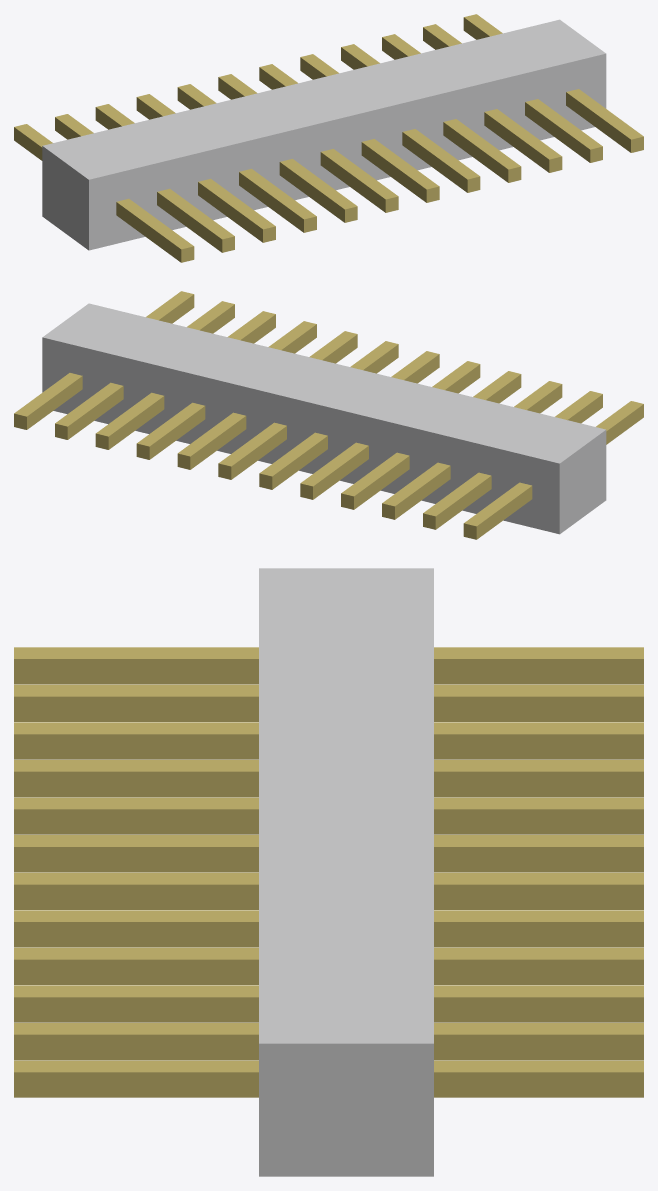
Rendered from pin_header_127_12pin.glb.
3 renders of one model, top to bottom at view 1: azimuth 30°, elevation 25°; view 2: azimuth 150°, elevation 25°; view 3: azimuth 270°, elevation 25°, orthographic. The views are drawn at different scales.
Parts seen in each view (by area): view 1: housing, pins; view 2: housing, pins; view 3: pins, housing.
Boxes of the visible parts, x1=… form: housing: x1=42, y1=19, x2=606, y2=250; pins: x1=14, y1=14, x2=643, y2=262; housing: x1=42, y1=303, x2=606, y2=534; pins: x1=14, y1=291, x2=643, y2=539; pins: x1=14, y1=647, x2=643, y2=1097; housing: x1=259, y1=568, x2=433, y2=1176.
Size of the model in its own units: 16.07 by 2.1 by 9.
